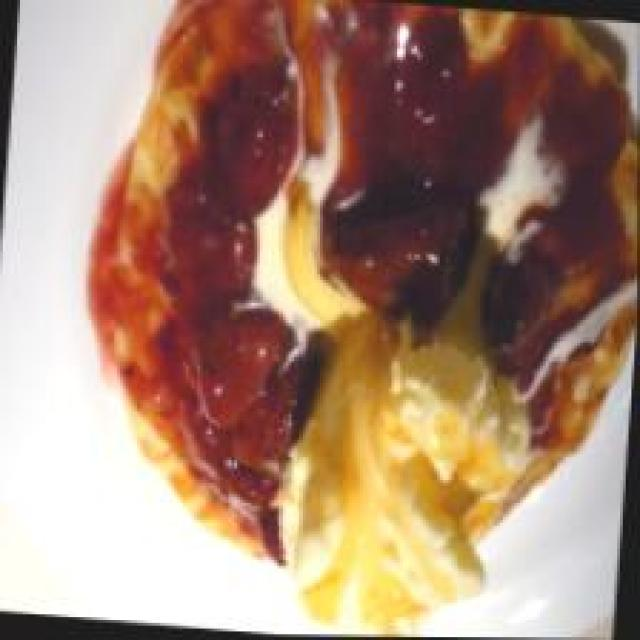Waffles: (86, 0, 640, 640)
